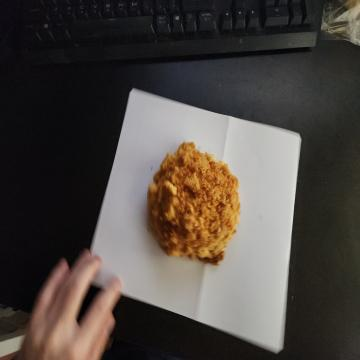soboru_bread: (148, 139, 241, 268)
